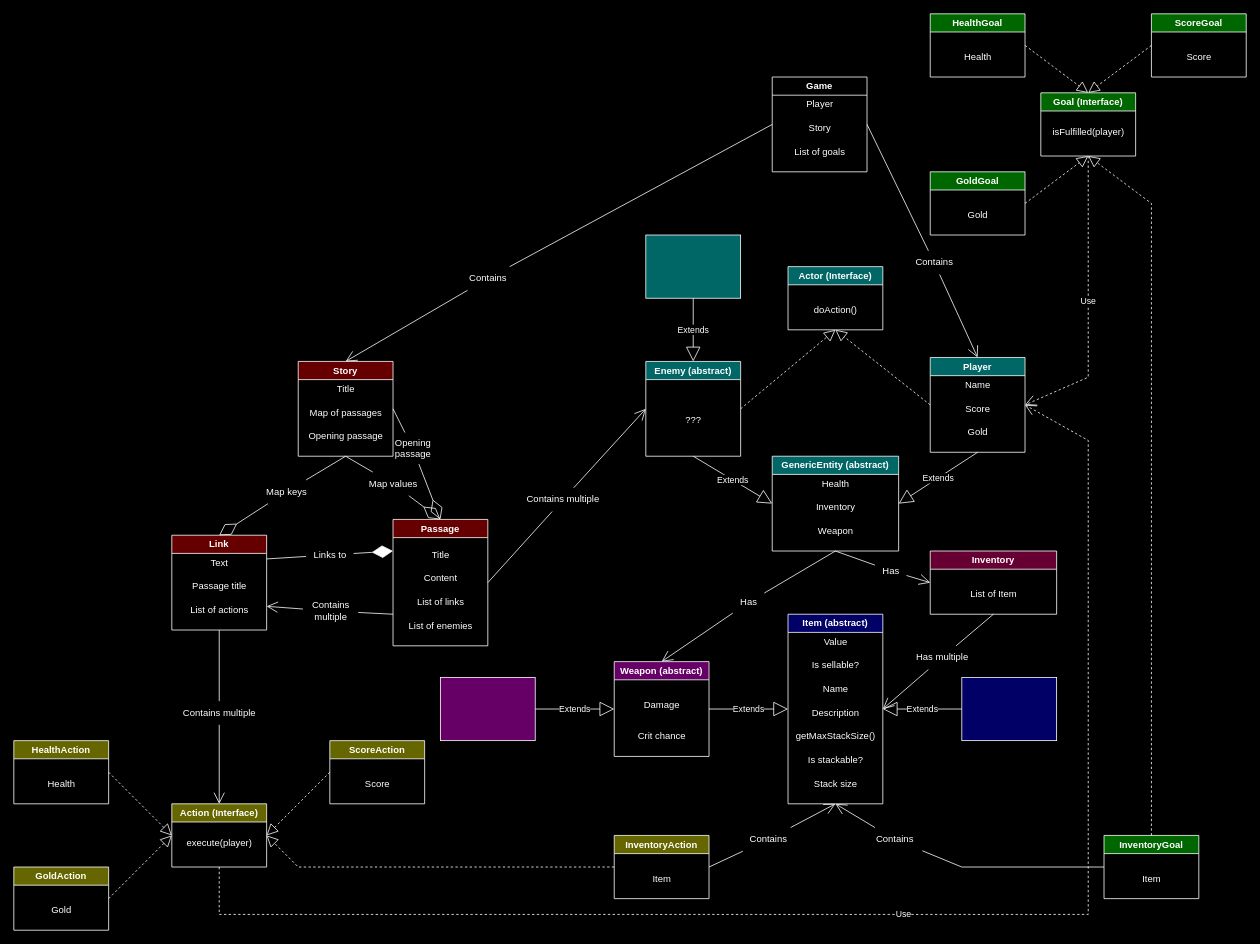
This 1260x944 diagram has some shape labels left out. The shapes that lost their labels are listed below. From the top down, each one's centre as x and y in pixels, then its label:
At pixel 693 266: "Various enemies extending the abstract base class".
At pixel 487 709: "Various weapons extending the abstract base class".
At pixel 1009 709: "Various items extending the abstract base class".
